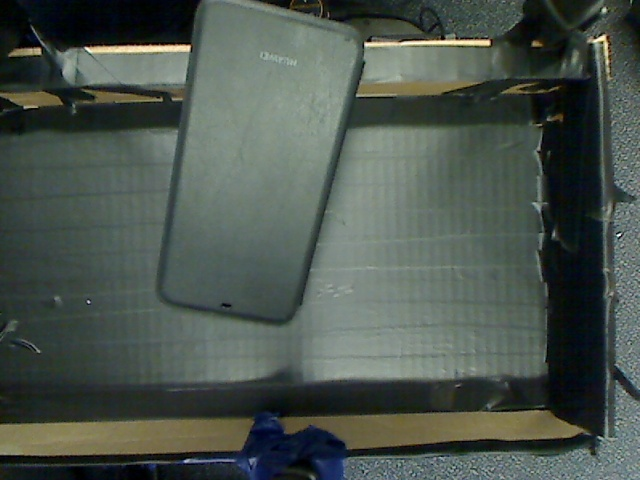phone: (154, 1, 372, 330)
